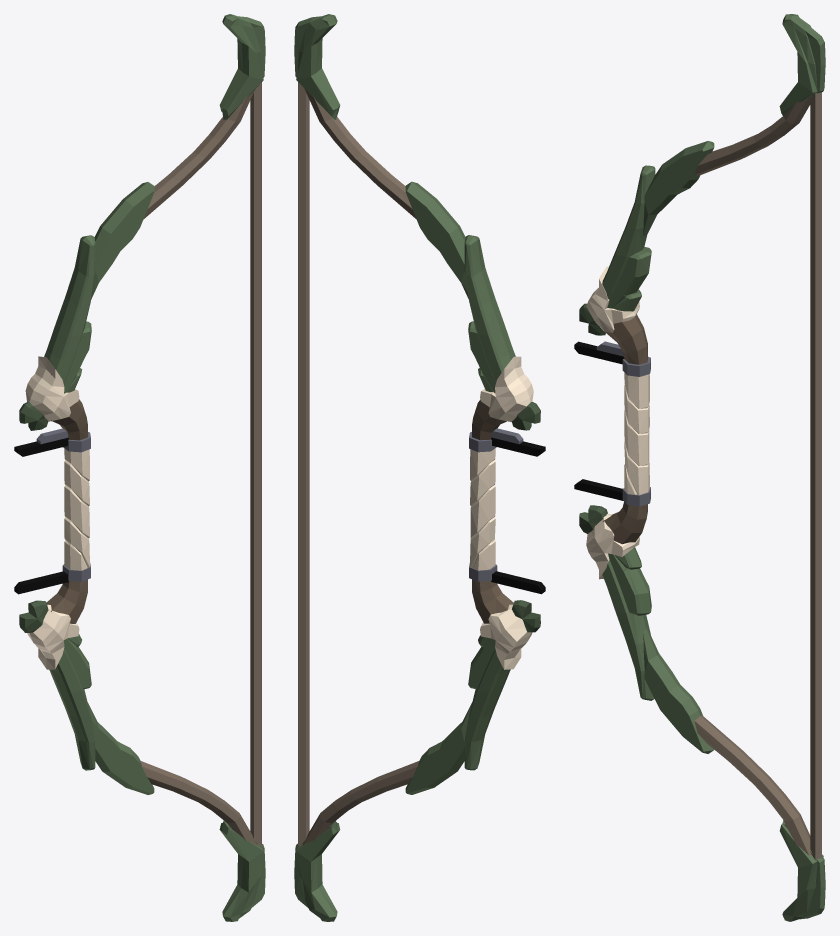
Rendered from _BOW_1.fbx.
3 renders of one model, left to right at view 1: azimuth 30°, elevation 25°; view 2: azimuth 150°, elevation 25°; view 3: azimuth 330°, elevation 25°, orthographic.
Parts seen in each view (by area): view 1: BOW_1; view 2: BOW_1; view 3: BOW_1.
Part boxes in pixels (left/top/right/bottom): BOW_1: left=14, top=14, right=265, bottom=921; BOW_1: left=294, top=14, right=545, bottom=921; BOW_1: left=574, top=14, right=825, bottom=921.
Size of the model in its own units: 42.62 by 148 by 6.13.
